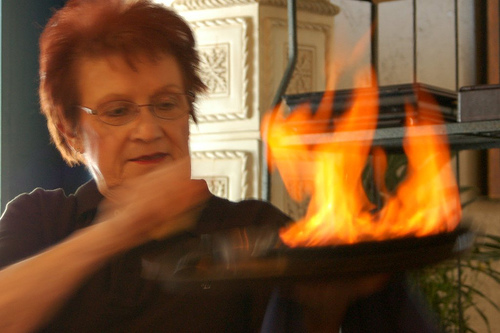fire: (273, 89, 472, 242)
